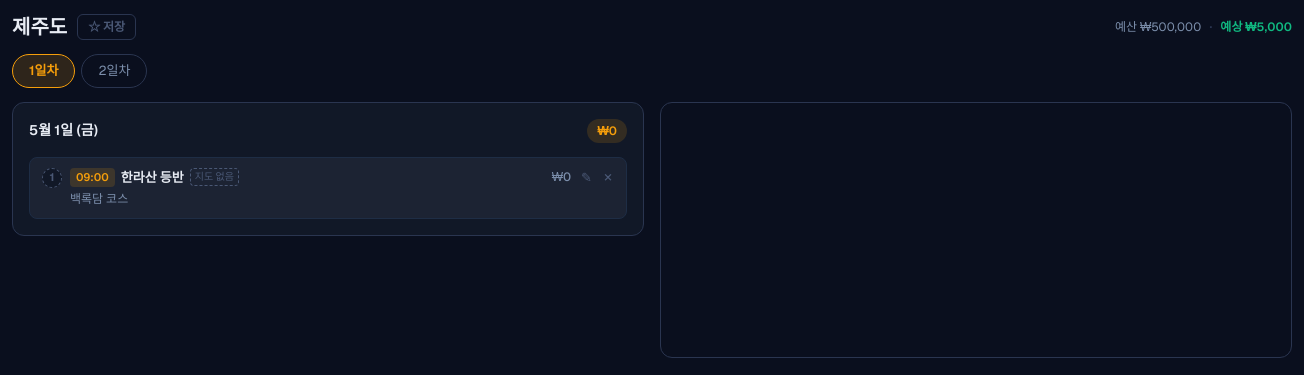
it: ItineraryView › switches to second day on tab click
Click the button "2일차" at (114, 71), box x1=82 y1=54 x2=148 y2=88
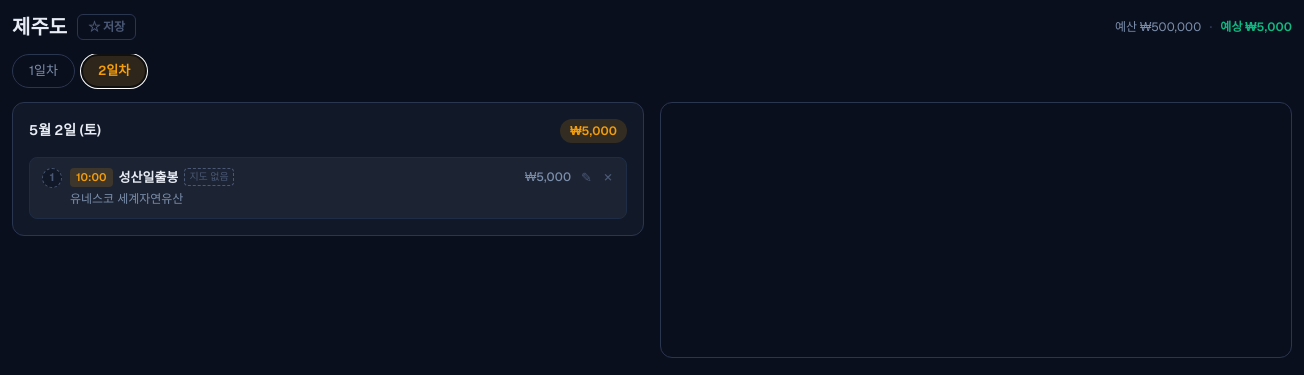
Expected: the text "성산일출봉" is shown, x1=119 y1=168 x2=178 y2=187
Expected: the text "한라산 등반" is gone
